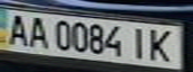0: (51, 17, 72, 52), (69, 19, 90, 53)
4: (103, 23, 127, 57)
8: (87, 21, 106, 56)
A: (3, 11, 30, 47), (24, 15, 51, 49)
I: (127, 25, 151, 61)
K: (145, 27, 181, 64)
